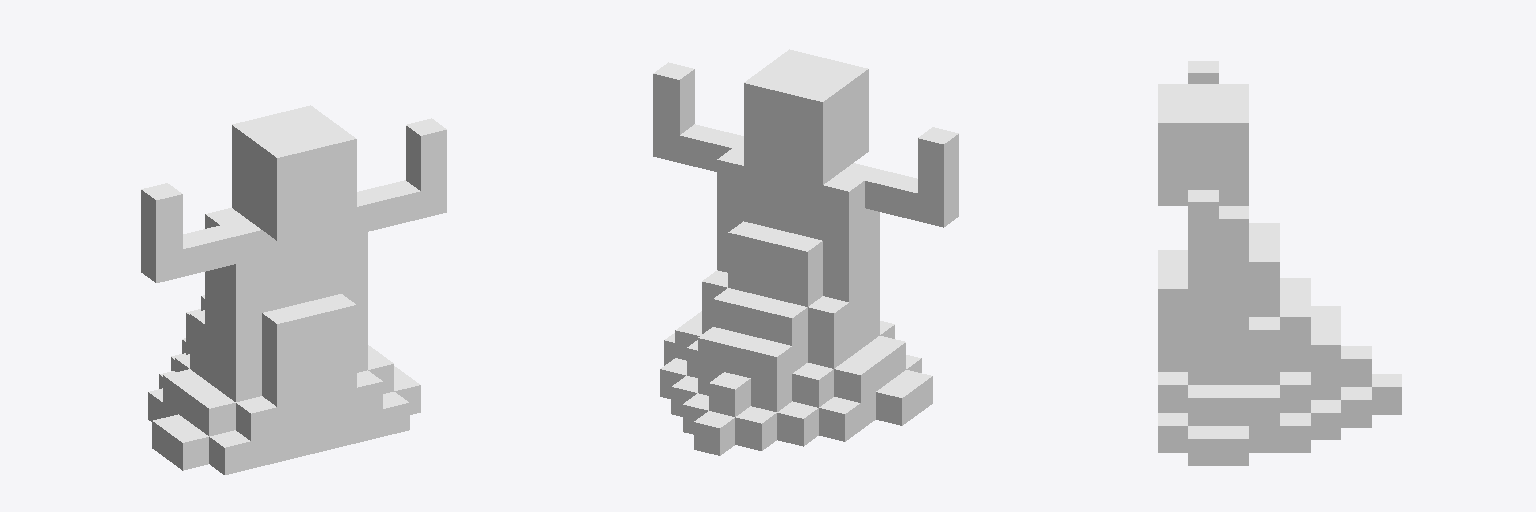
Rendered from take_dmg.obj.
3 views of the same model, side by side, from view 1: azimuth 30°, elevation 25°; view 2: azimuth 150°, elevation 25°; view 3: azimuth 270°, elevation 25° (orthographic).
Size of the model in its own units: 11 by 11 by 8.